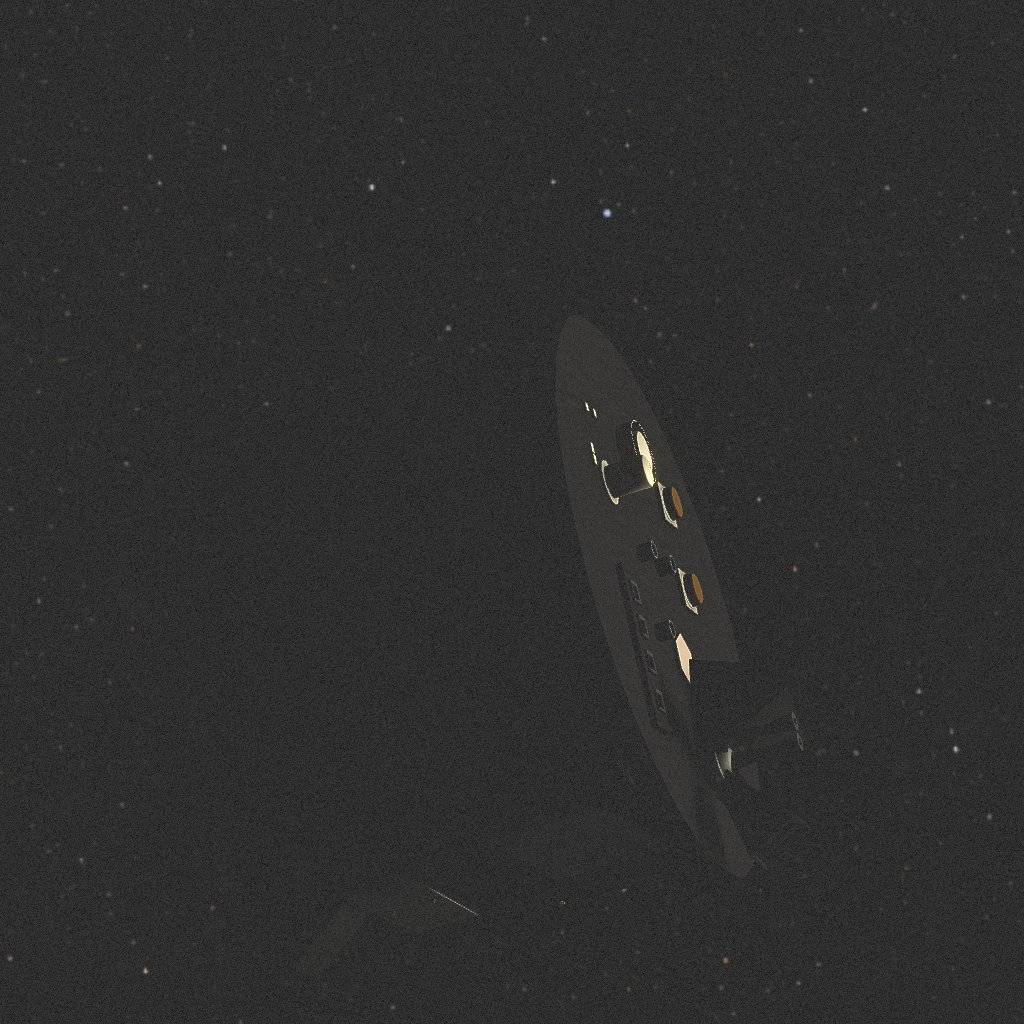proba_3_ocs: (69, 324, 894, 979)
